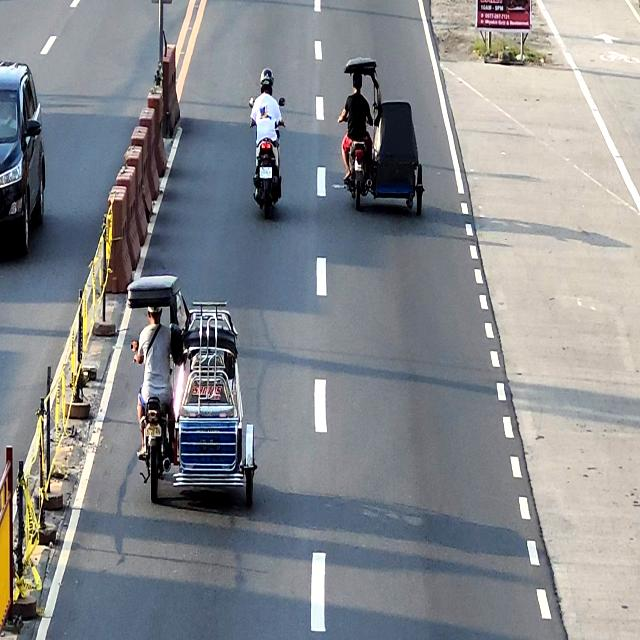Car: (0, 62, 45, 256)
License-Plate: (144, 424, 162, 436), (260, 168, 272, 178)
Motorcycle: (248, 98, 286, 216)
Tricycle: (128, 276, 258, 512), (342, 56, 426, 218)
